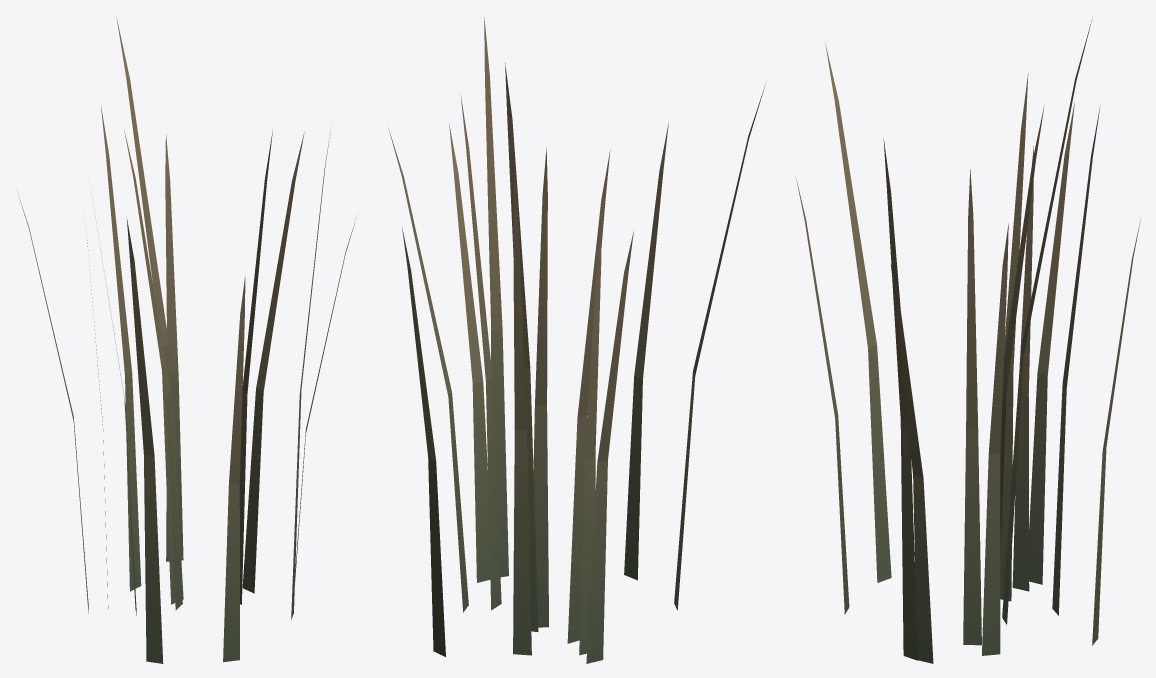
Rendered from veg-needle-rush.glb.
The picture shows the model from 3 angles, left to right: view 1: azimuth 30°, elevation 25°; view 2: azimuth 150°, elevation 25°; view 3: azimuth 270°, elevation 25°; orthographic projection. The views are drawn at different scales.
Parts seen in each view (by area): view 1: LOD0; view 2: LOD0; view 3: LOD0.
Part boxes in pixels (<box>): LOD0: <box>18,16,356,663</box>; LOD0: <box>388,17,765,663</box>; LOD0: <box>795,19,1141,663</box>.
Size of what is drawn, in the model's own units: 0.6893 by 1.4 by 0.7362.
